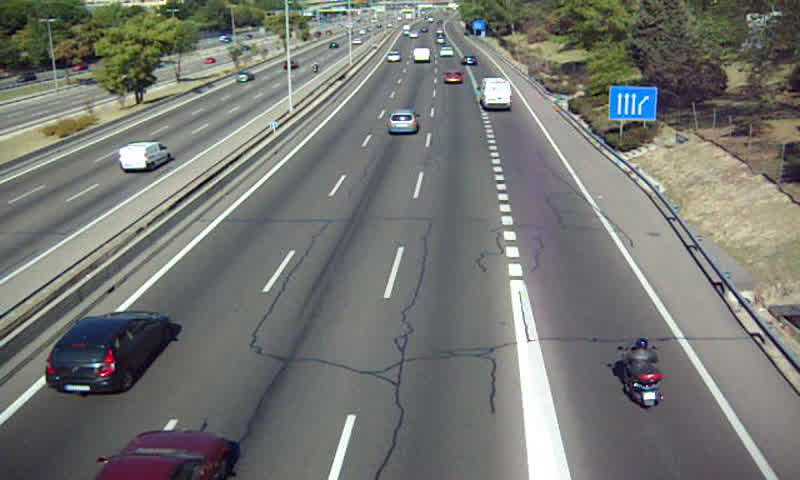car: (45, 312, 171, 396), (385, 109, 419, 136), (441, 68, 463, 85), (461, 52, 479, 67), (440, 45, 454, 58), (387, 51, 401, 64)
motorcycle: (618, 338, 662, 409)
van: (478, 77, 511, 109), (412, 47, 429, 62)
